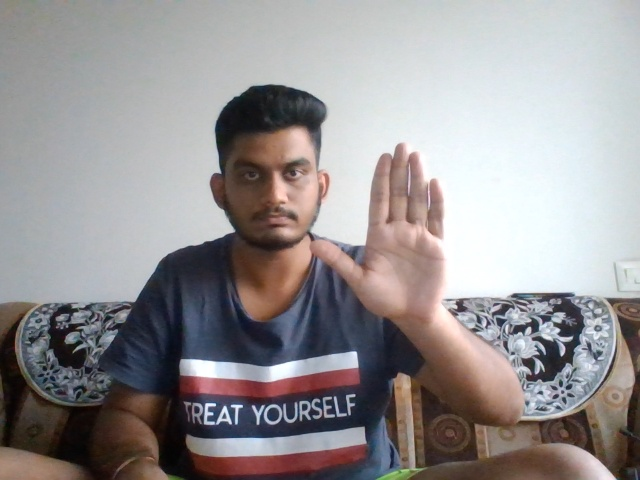Hello: (311, 141, 471, 322)
